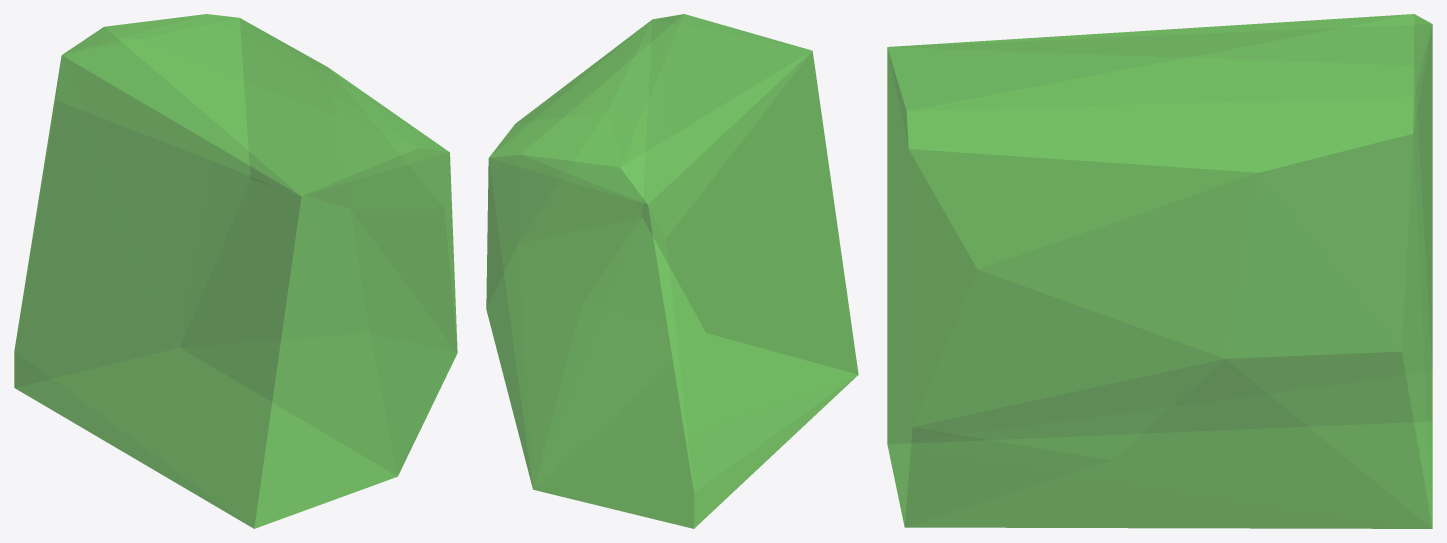
The picture shows the model from 3 angles, left to right: view 1: azimuth 30°, elevation 25°; view 2: azimuth 150°, elevation 25°; view 3: azimuth 270°, elevation 25°; orthographic projection. The views are drawn at different scales.
Parts seen in each view (by area): view 1: Shape_IndexedFaceSet.014_Shape_IndexedFaceSet.16784; view 2: Shape_IndexedFaceSet.014_Shape_IndexedFaceSet.16784; view 3: Shape_IndexedFaceSet.014_Shape_IndexedFaceSet.16784.
Part boxes in pixels (x1,y1,x2,y2): Shape_IndexedFaceSet.014_Shape_IndexedFaceSet.16784: [14, 14, 457, 528]; Shape_IndexedFaceSet.014_Shape_IndexedFaceSet.16784: [486, 14, 858, 528]; Shape_IndexedFaceSet.014_Shape_IndexedFaceSet.16784: [887, 14, 1432, 528].
Size of the model in its own units: 0.1649 by 0.21 by 0.2249.
